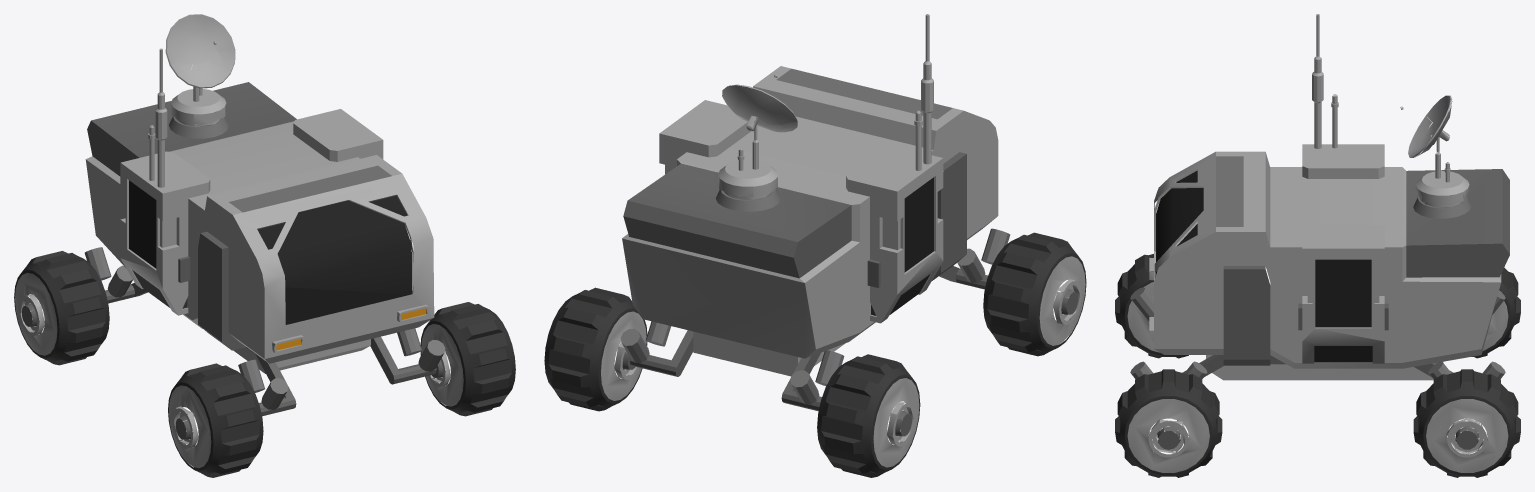
Rendered from pnj_car.glb.
The picture shows the model from 3 angles, left to right: view 1: azimuth 30°, elevation 25°; view 2: azimuth 150°, elevation 25°; view 3: azimuth 270°, elevation 25°; orthographic projection. The views are drawn at different scales.
Parts seen in each view (by area): view 1: Rover_1; view 2: Rover_1; view 3: Rover_1.
Boxes of the visible parts, x1,y1,x2,y2 form: Rover_1: (14,14,515,477); Rover_1: (544,14,1086,477); Rover_1: (1115,14,1520,477).
Bounding box in the file's own units: 4.58 × 4.88 × 5.16.
Materials: 1 (1 with a texture image).
